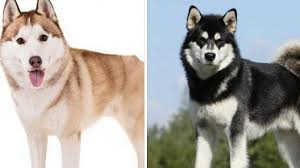Bulldog: (4, 5, 145, 162), (176, 1, 298, 163)
